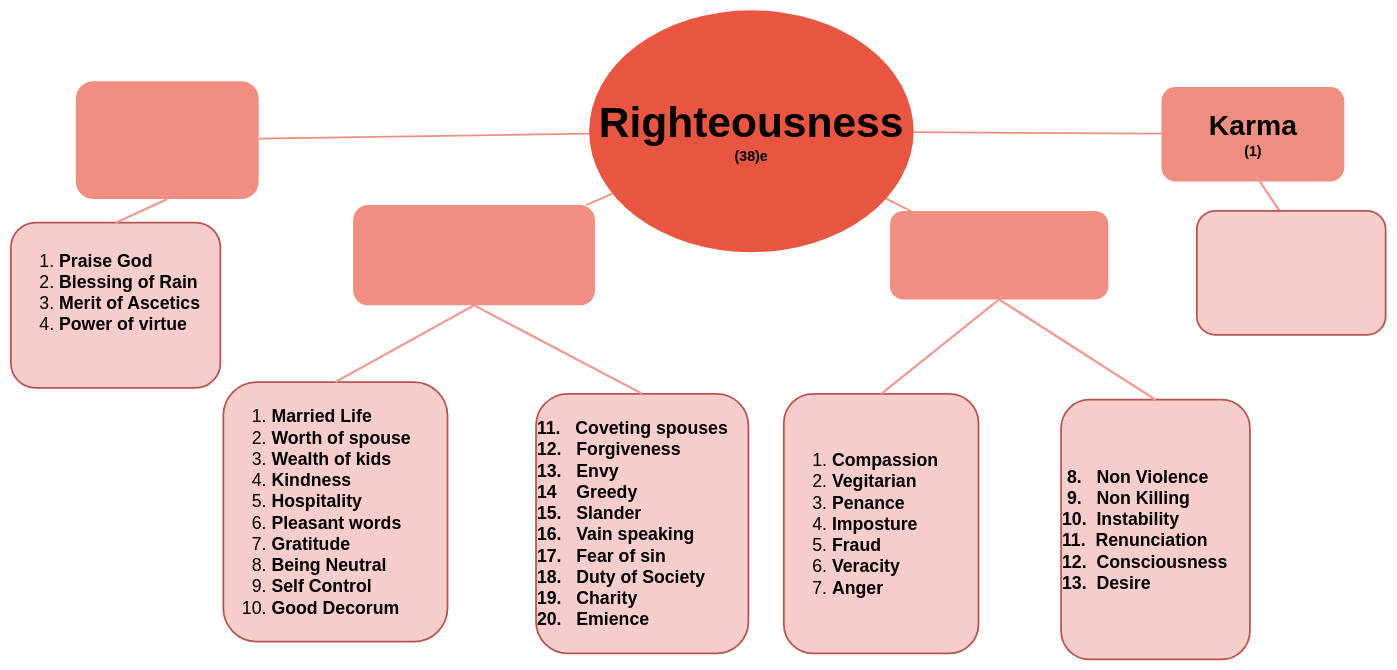
This 1397x670 diagram has some shape labels left out. Each missing label, with the centre of its shape:
Ascetic Virtue (13): point 999,255
Destiny: point 1291,272
Domestic Virtue (20): point 474,255
Introduction (4): point 167,140
